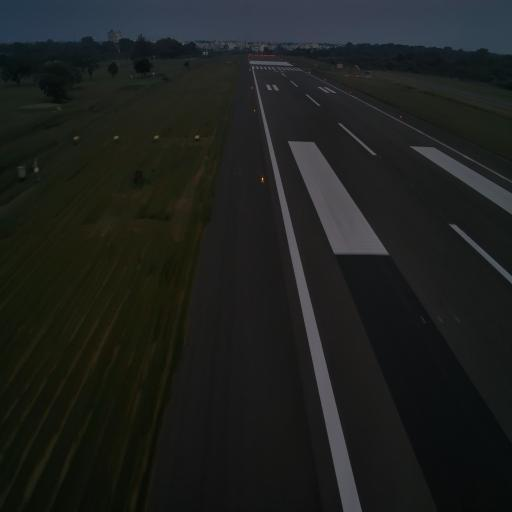off: (452, 309, 460, 329), (418, 312, 427, 328), (438, 312, 444, 326), (410, 180, 415, 192), (378, 153, 383, 163)
on: (260, 173, 265, 185)
